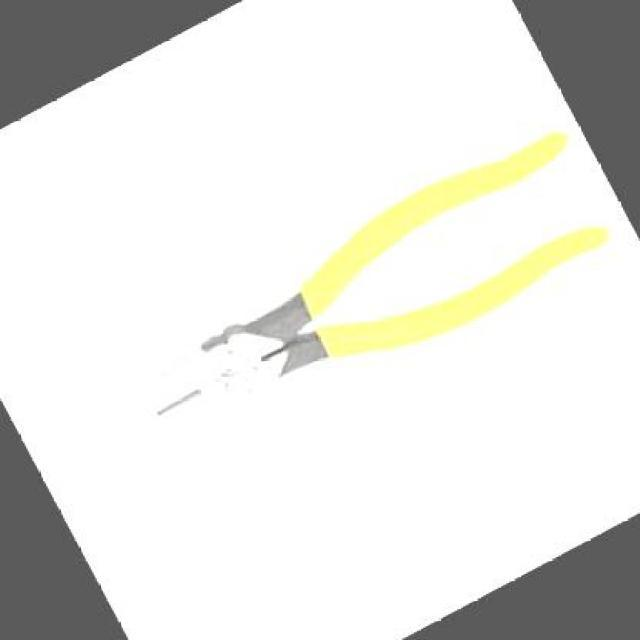pliers: (0, 72, 638, 559)
